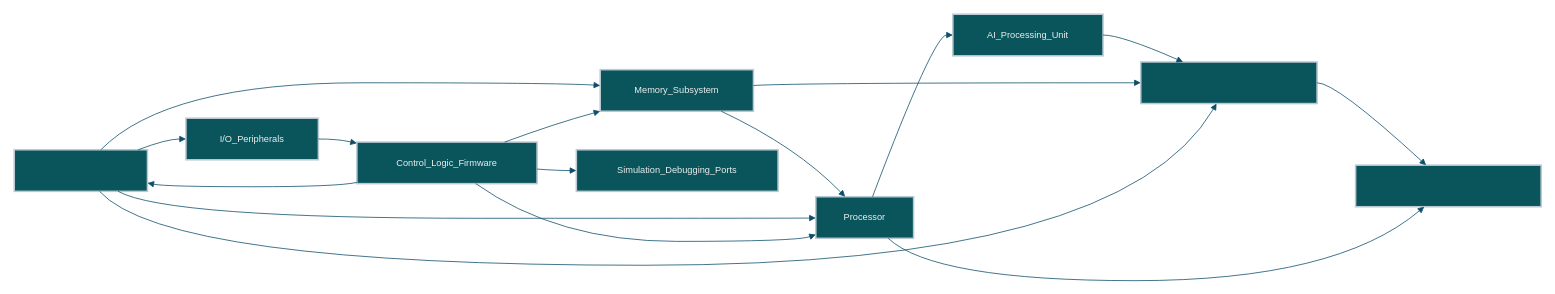
The diagram is 1555 pixels wide and 294 high, and some of its shapes have lost their labels. Here are the shapes that lost their labels. From the top down, the box of each, then its label:
(1140, 61, 1317, 104): FPGA_ASIC_Accelerator
(13, 149, 148, 192): Data_Interfaces
(1354, 164, 1542, 207): Power_Management_Unit
